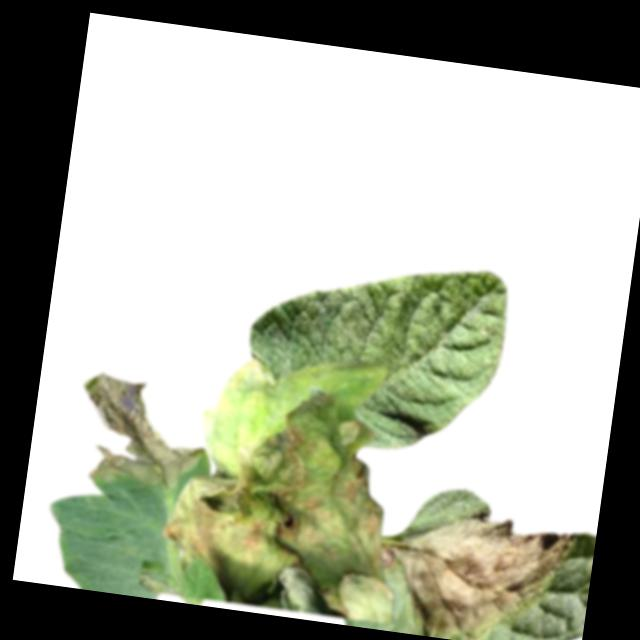Late_blight: (139, 368, 424, 627), (391, 501, 579, 640), (69, 365, 211, 494)
